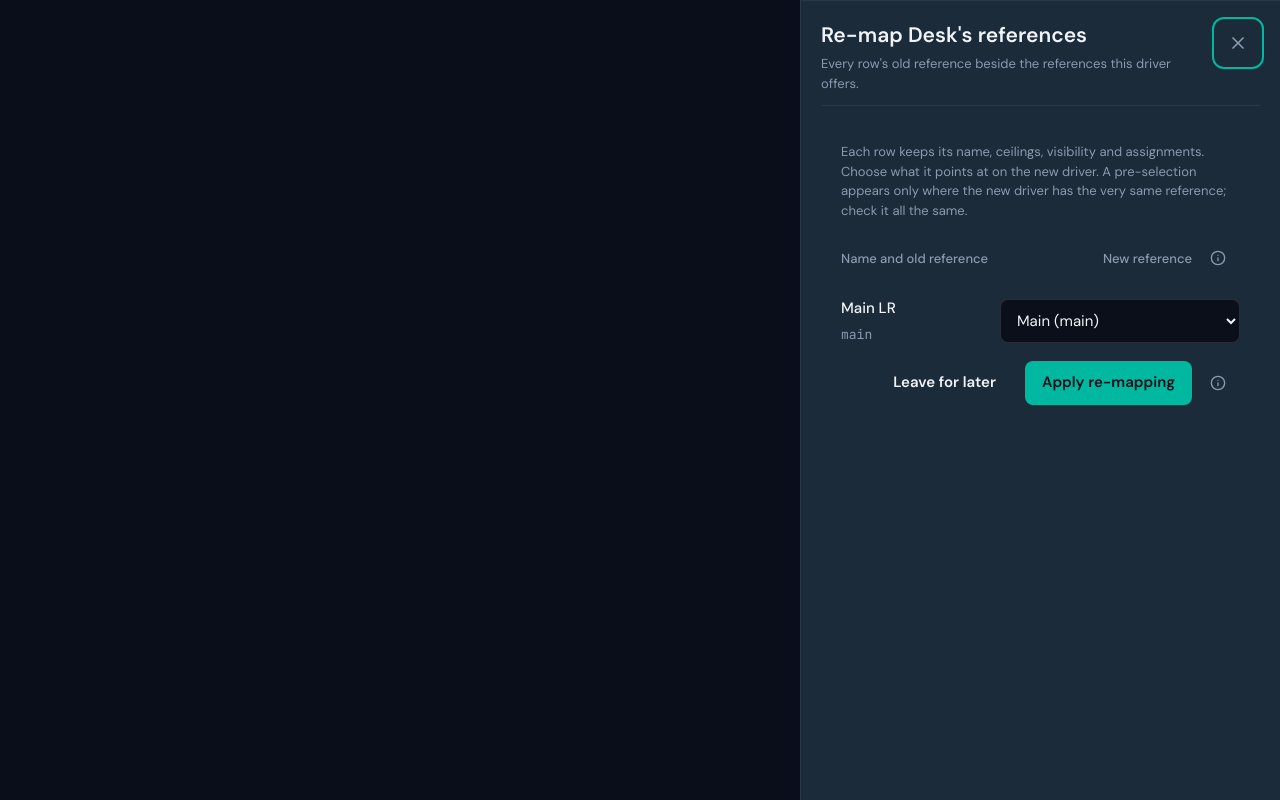
accessibility sweep — adding missing mixer channels (spec §24, §7.3) › the re-mapping sheet's offer: no serious or critical axe violations
Click the button "Apply re-mapping": (1108, 383) x1=1025 y1=361 x2=1192 y2=405
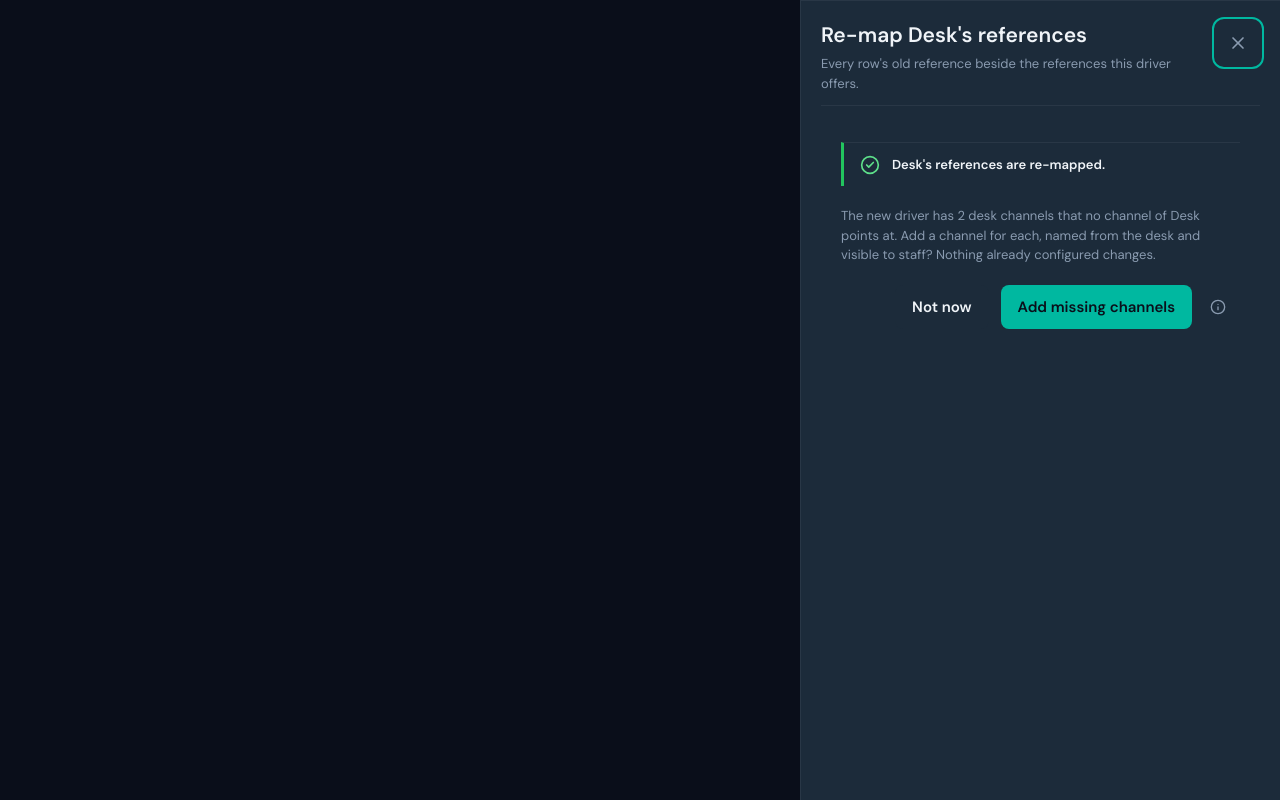
Now the button "Add missing channels" is shown, box x1=1001 y1=285 x2=1192 y2=329
